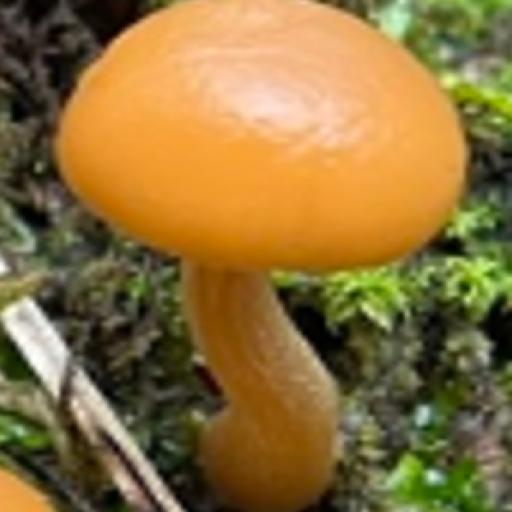mushroom: (58, 2, 468, 397)
